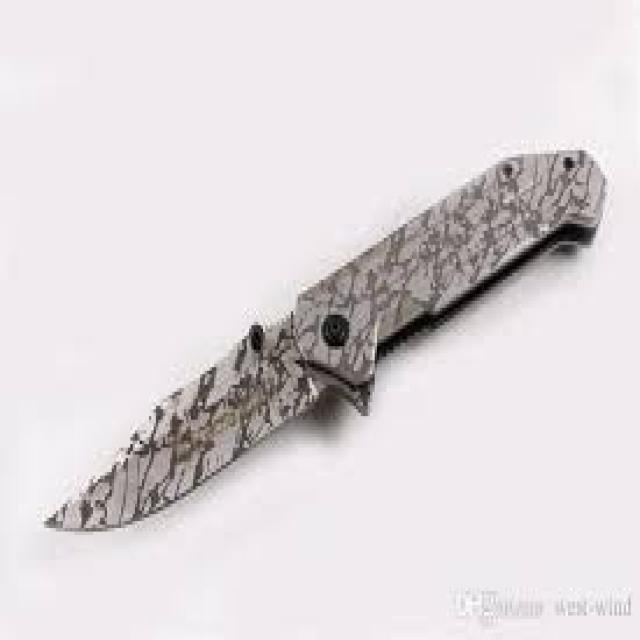knives: (40, 140, 610, 538)
